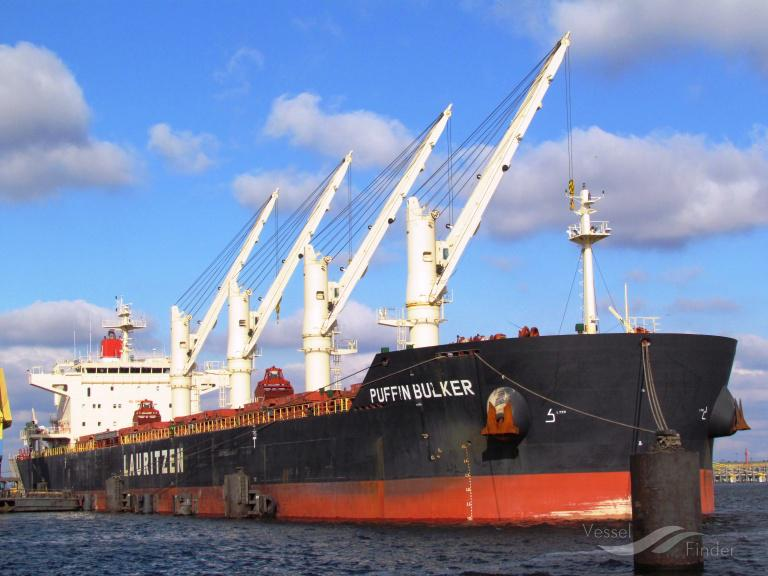OCR: (362, 374, 482, 412), (116, 446, 191, 481)
